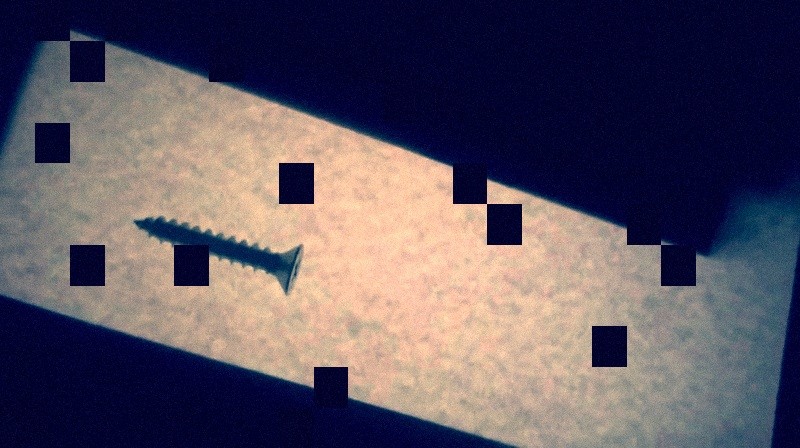S001: (126, 213, 308, 300)
